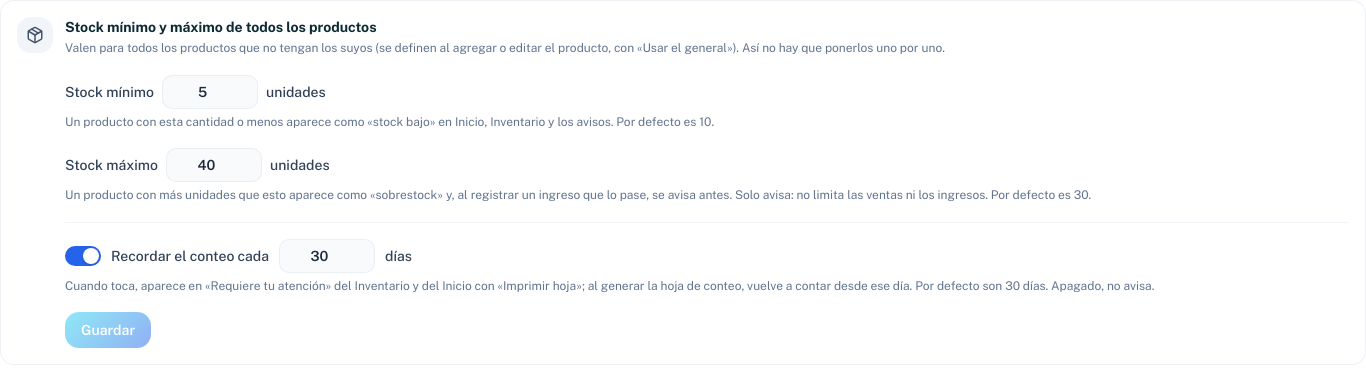
Test: Configuración → Inventario › guarda los dos juntos, sin pisar el resto de la parametrización, y confirma
Step 1. Replace the text in the number field labelled "Stock mínimo unidades" with "8" → x=210, y=92, box [162, 74, 258, 108]
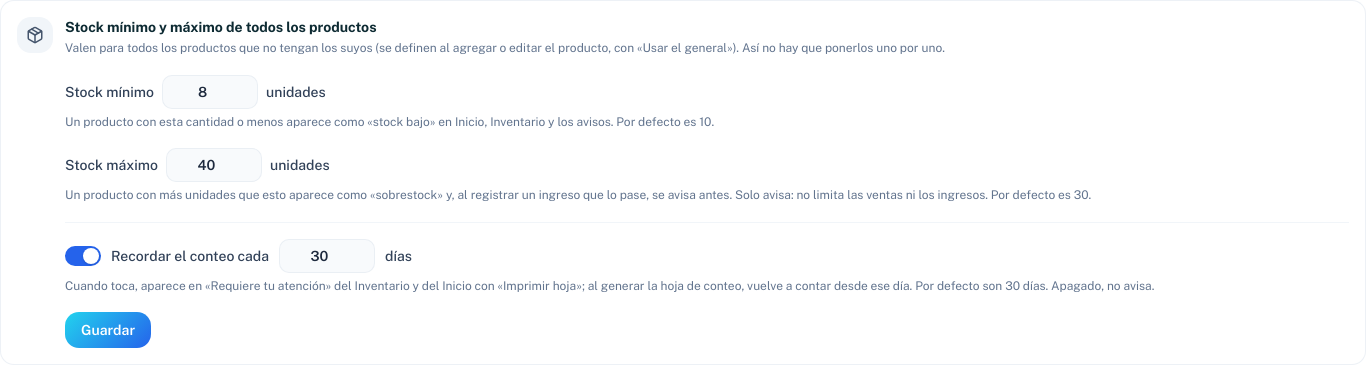
Step 2. Replace the text in the number field labelled "Stock máximo unidades" with "60" → x=214, y=165, box [166, 148, 262, 182]
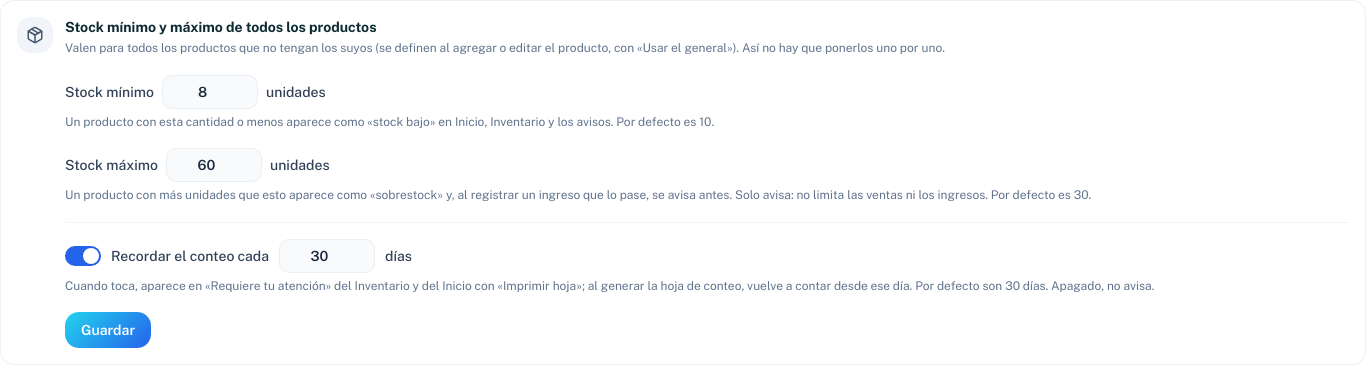
Step 3. Click the button "Guardar" → x=108, y=330, box [65, 312, 151, 348]
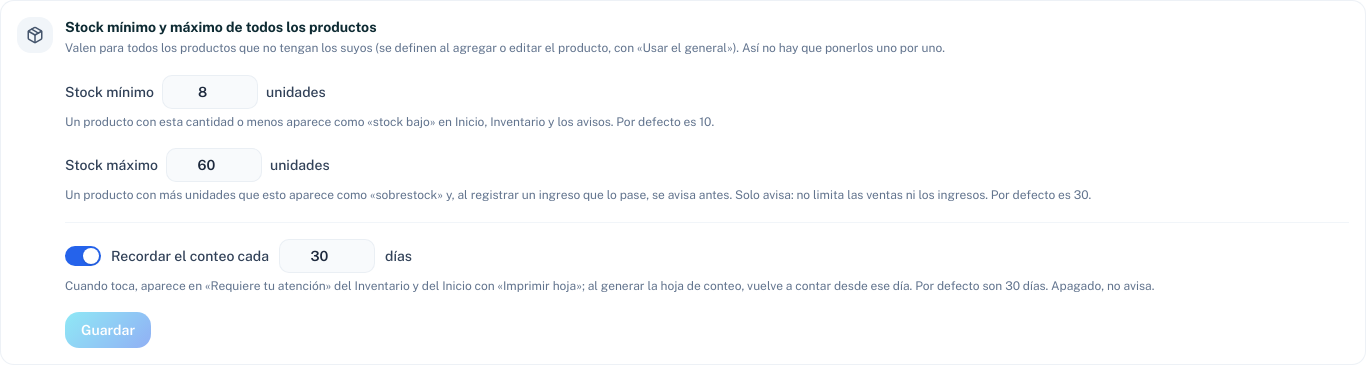
expect the button "Guardar" is disabled: met, box [65, 312, 151, 348]
